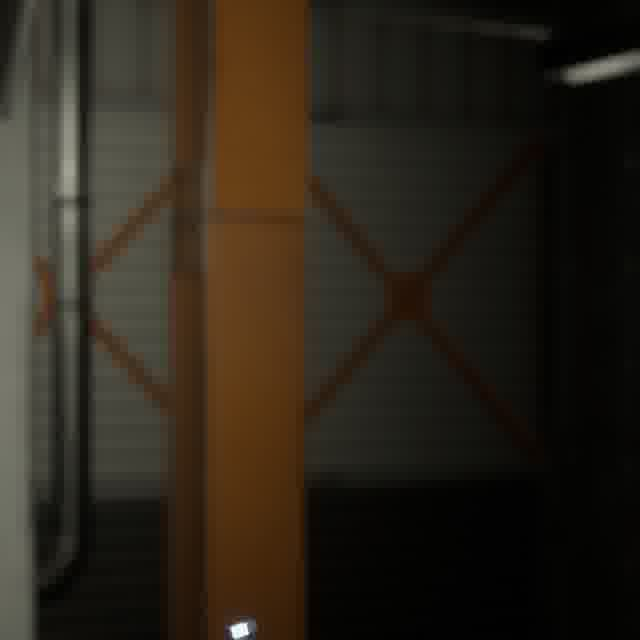nut: (220, 614, 262, 640)
